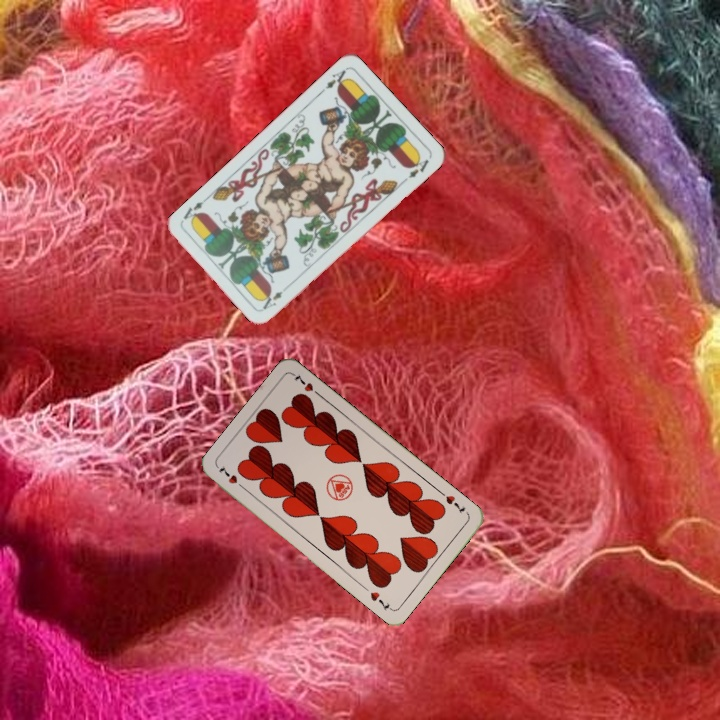EA: (316, 66, 350, 97), (259, 281, 292, 312)
H7: (214, 461, 248, 493), (436, 487, 468, 516)
